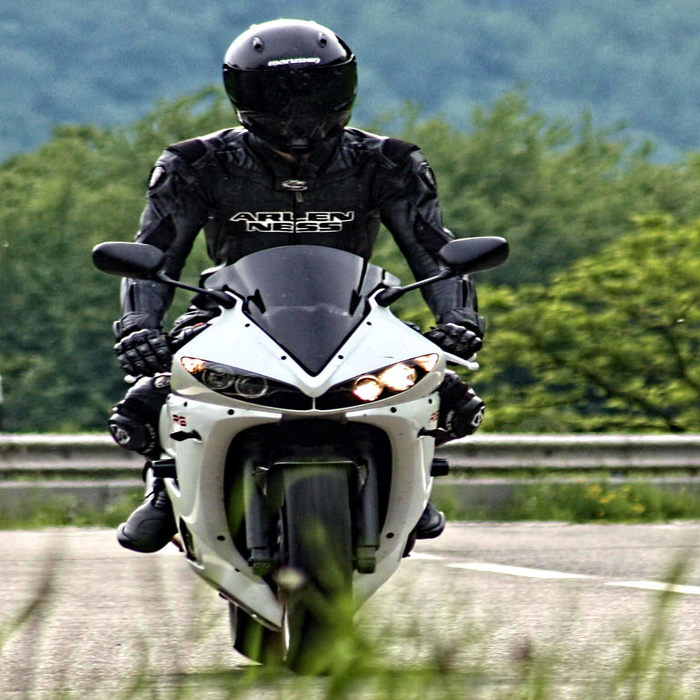h: (224, 16, 363, 180)
